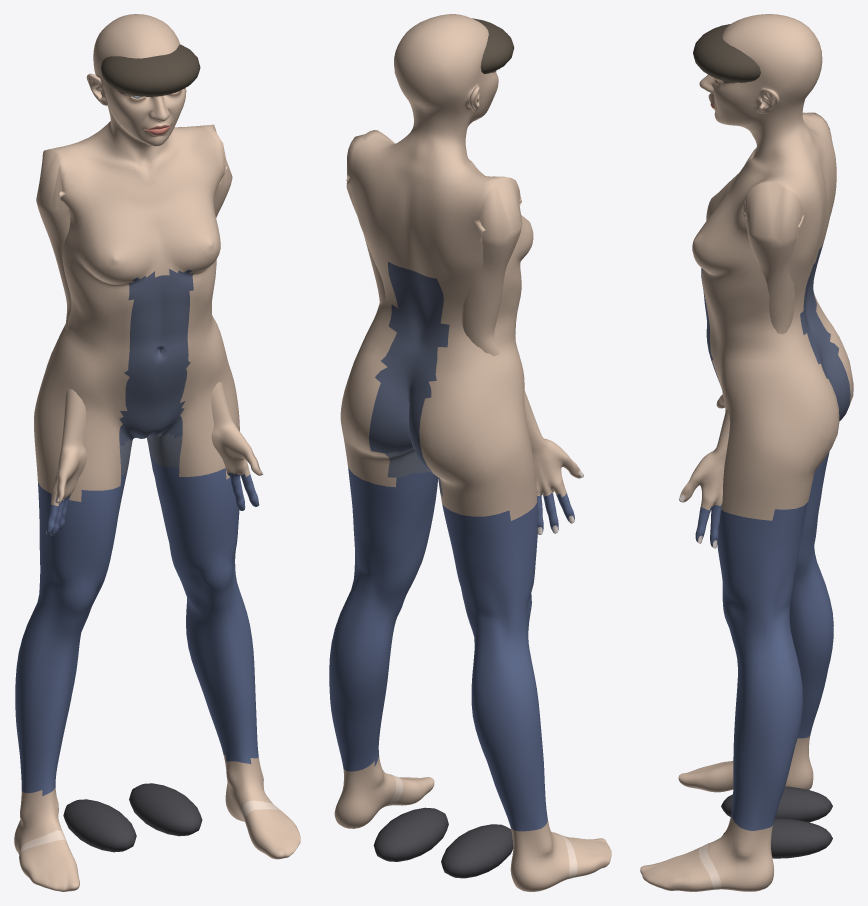
File: hm_ped_noah_v15.glb
3 renders of one model, left to right at view 1: azimuth 30°, elevation 25°; view 2: azimuth 150°, elevation 25°; view 3: azimuth 270°, elevation 25°, orthographic. The views are drawn at different scales.
Parts seen in each view (by area): view 1: hm_ped_noah; view 2: hm_ped_noah; view 3: hm_ped_noah.
Part boxes in pixels (bbox=[...]): hm_ped_noah: bbox=[14, 14, 300, 891]; hm_ped_noah: bbox=[329, 14, 611, 891]; hm_ped_noah: bbox=[640, 14, 853, 891].
Bounding box in the file's own units: 0.5697 × 1.78 × 0.419.
